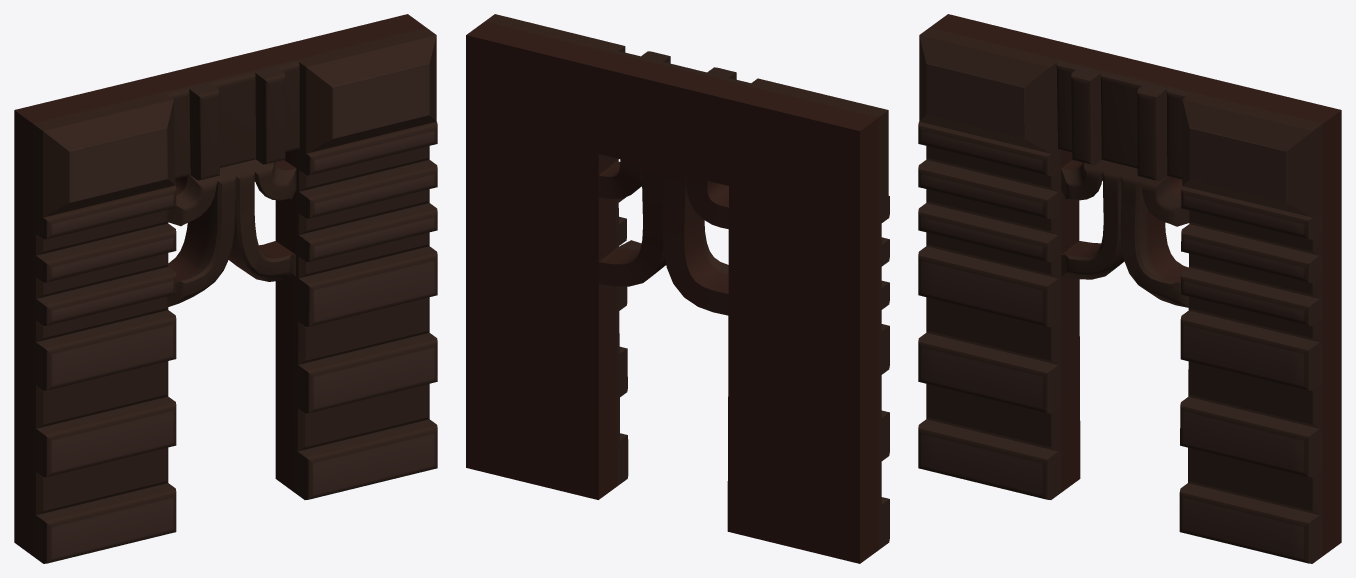
File: WallDoor.fbx
The picture shows the model from 3 angles, left to right: view 1: azimuth 30°, elevation 25°; view 2: azimuth 150°, elevation 25°; view 3: azimuth 330°, elevation 25°; orthographic projection.
Visible parts, largest first — view 1: WallDoor; view 2: WallDoor; view 3: WallDoor.
Part boxes in pixels (bbox=[...]): WallDoor: bbox=[14, 14, 437, 563]; WallDoor: bbox=[466, 14, 889, 563]; WallDoor: bbox=[918, 14, 1341, 563].
Size of the model in its own units: 238 by 250 by 42.59.
